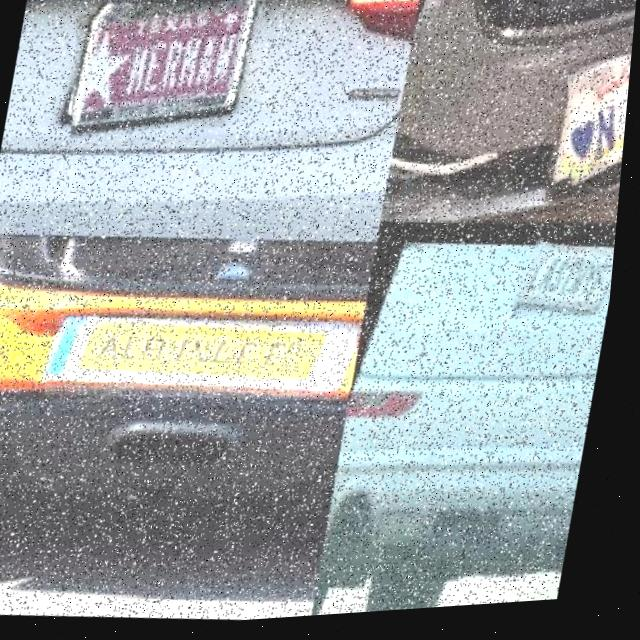LicensePlate: (54, 319, 365, 406), (73, 0, 266, 140), (520, 245, 620, 337), (577, 65, 633, 206)
